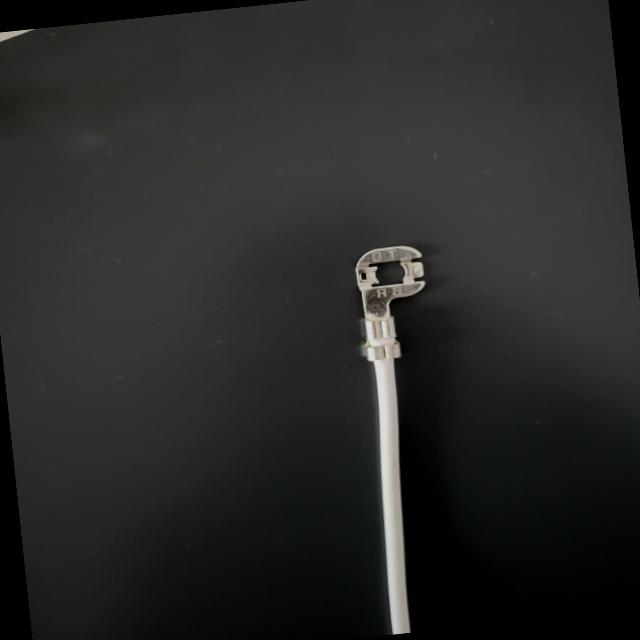defect: (307, 302, 418, 371)
